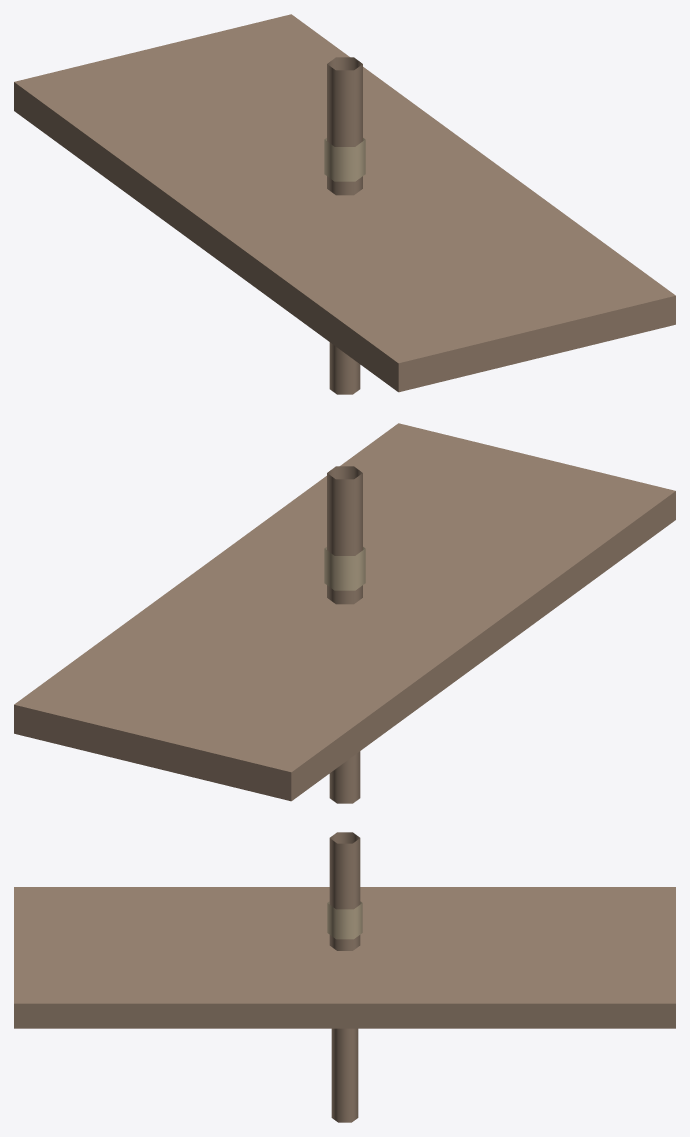
The model's file is mangrove_dock.glb.
The picture shows the model from 3 angles, top to bottom: view 1: azimuth 30°, elevation 25°; view 2: azimuth 150°, elevation 25°; view 3: azimuth 270°, elevation 25°; orthographic projection. The views are drawn at different scales.
Visible parts, largest first — view 1: Deck_Planks_Node, MooringPost_Node, CoirRopeWrap_Node, Piling_0_Node; view 2: Deck_Planks_Node, MooringPost_Node, CoirRopeWrap_Node, Piling_0_Node; view 3: Deck_Planks_Node, MooringPost_Node, Piling_0_Node, CoirRopeWrap_Node.
Part boxes in pixels (bbox=[...]): Deck_Planks_Node: bbox=[14, 14, 675, 392]; MooringPost_Node: bbox=[327, 57, 362, 195]; CoirRopeWrap_Node: bbox=[324, 138, 365, 181]; Piling_0_Node: bbox=[329, 342, 360, 394]; Deck_Planks_Node: bbox=[14, 423, 675, 801]; MooringPost_Node: bbox=[327, 466, 362, 604]; CoirRopeWrap_Node: bbox=[324, 547, 365, 590]; Piling_0_Node: bbox=[329, 751, 360, 803]; Deck_Planks_Node: bbox=[14, 887, 675, 1028]; MooringPost_Node: bbox=[329, 832, 360, 950]; Piling_0_Node: bbox=[331, 1028, 358, 1122]; CoirRopeWrap_Node: bbox=[327, 901, 362, 939].
Size of the model in its own units: 2.5 by 2.8 by 6.
